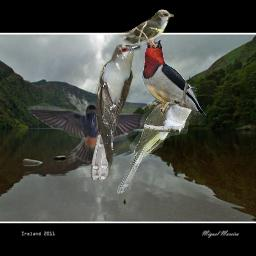Cuckoo: (116, 83, 197, 194), (90, 42, 142, 180), (115, 9, 174, 45)
Swallow: (24, 102, 149, 162)
Woodpecker: (139, 35, 210, 125)
